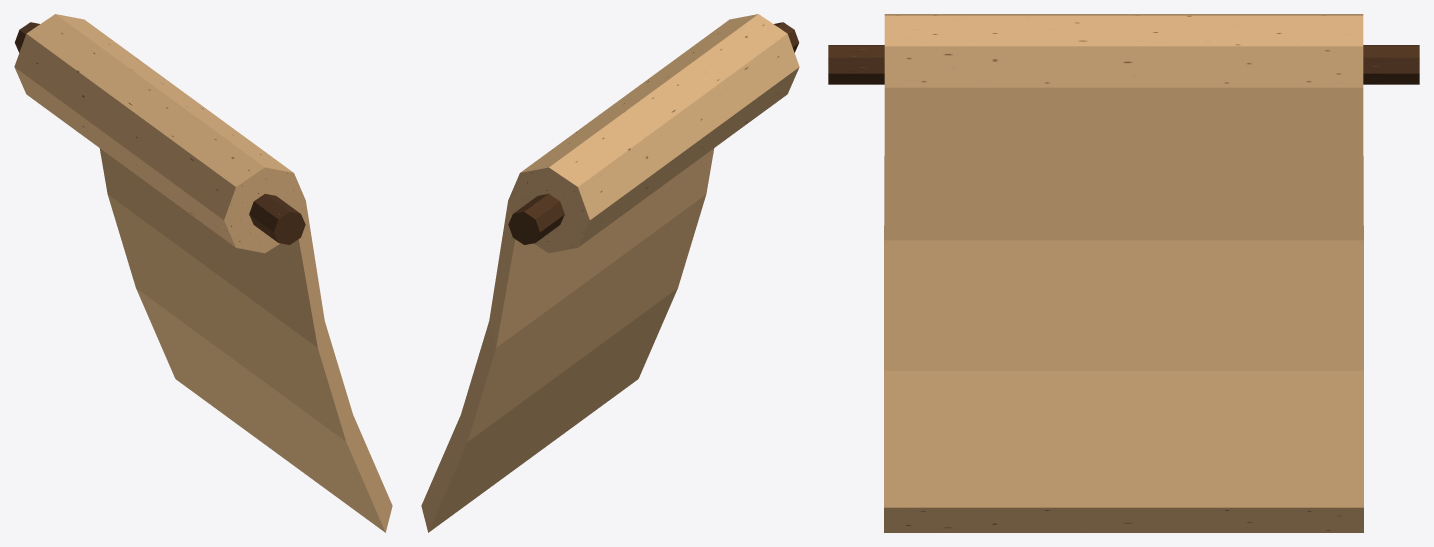
Rendered from iceScroll.fbx.
The picture shows the model from 3 angles, left to right: view 1: azimuth 30°, elevation 25°; view 2: azimuth 150°, elevation 25°; view 3: azimuth 270°, elevation 25°; orthographic projection. The views are drawn at different scales.
Visible parts, largest first — view 1: Cylinder, Cylinder.001; view 2: Cylinder, Cylinder.001; view 3: Cylinder, Cylinder.001.
Part boxes in pixels (x1,y1,x2,y2): Cylinder: (14,14,392,532); Cylinder.001: (14,22,305,244); Cylinder: (421,14,799,532); Cylinder.001: (508,22,799,244); Cylinder: (884,14,1363,532); Cylinder.001: (828,45,1419,84).
Size of the model in its own units: 1463 by 3277 by 3900.
